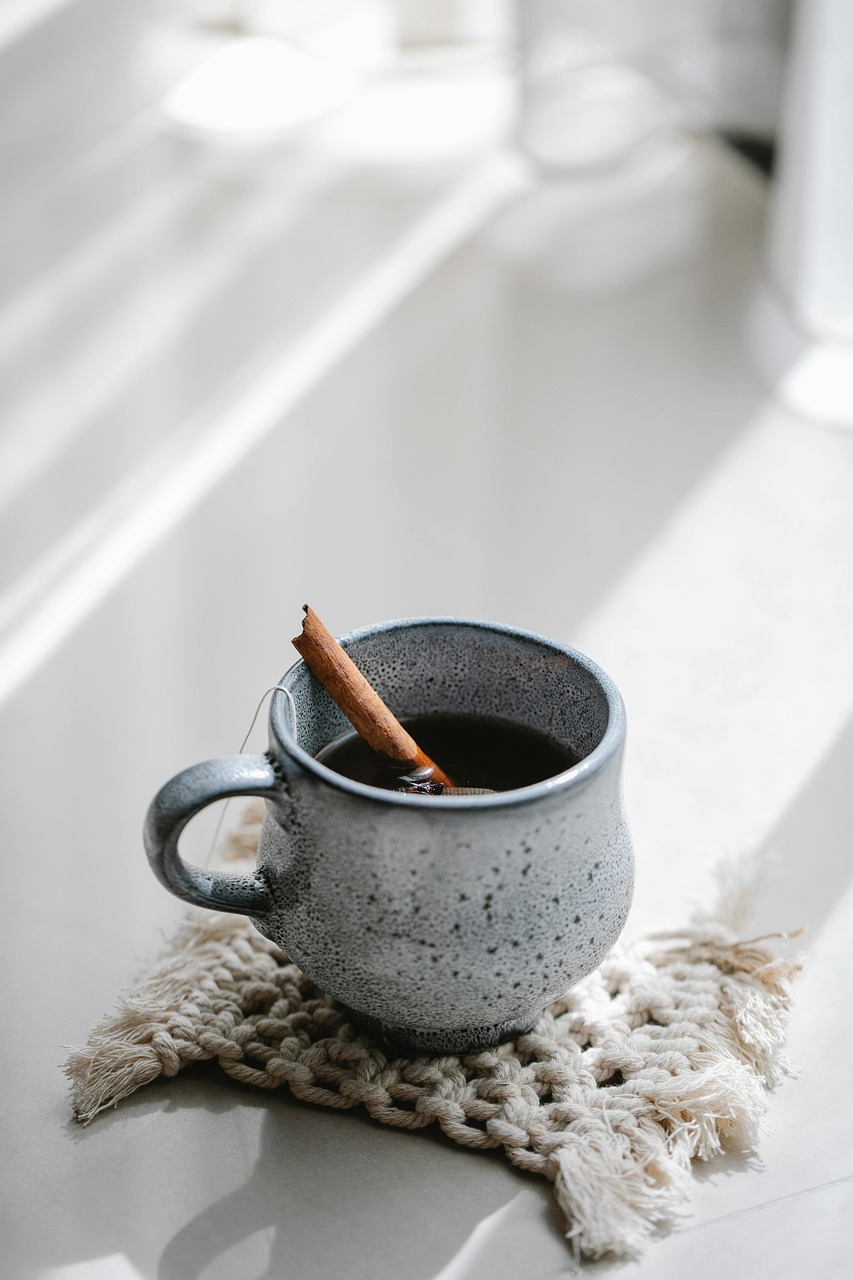mug: (99, 600, 653, 1128)
